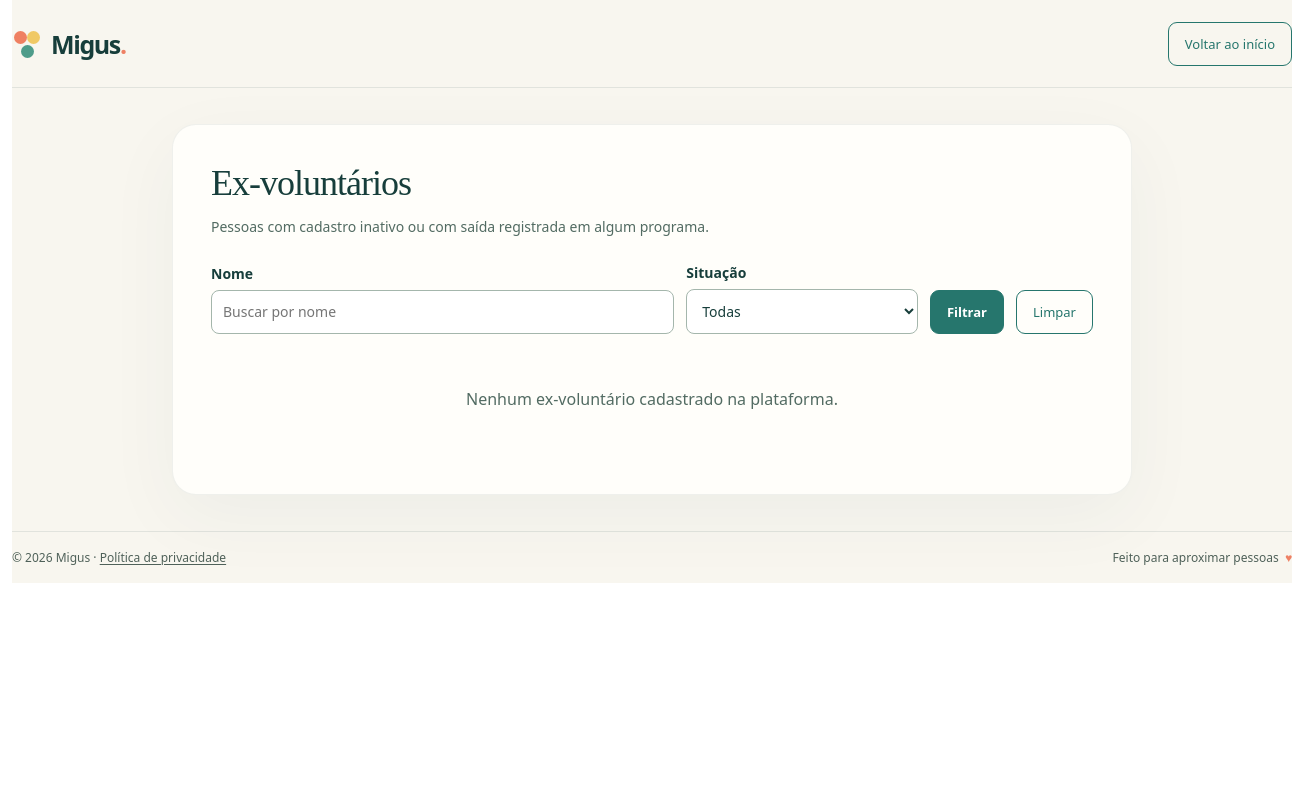
informa quando não há ex-voluntários
Expected: the text "Nenhum ex-voluntário cadastrado na plataforma." is shown, [466,388,838,410]
Type "Zeca" into the field labelled "Nome" at (443, 312), box [211,290,674,334]
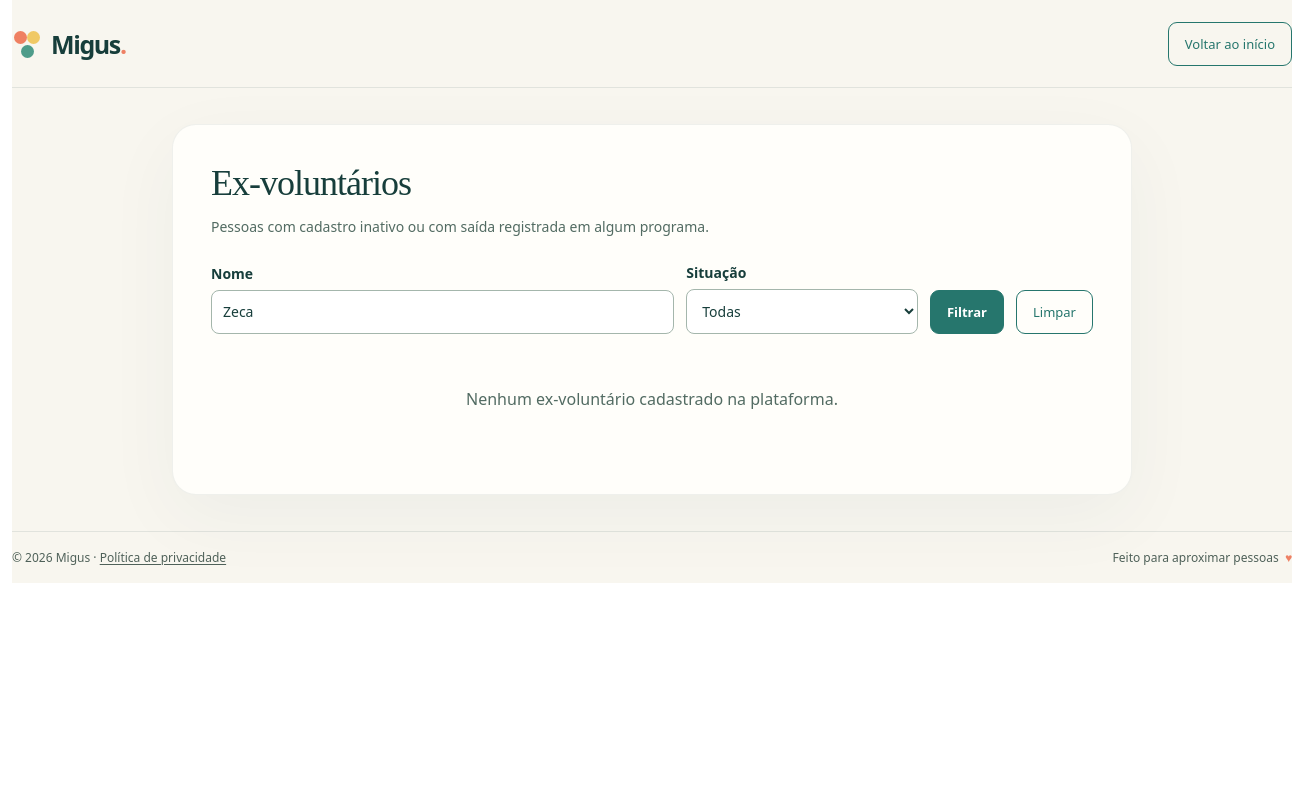
Click the button "Filtrar" at (967, 312), box [930,290,1004,334]
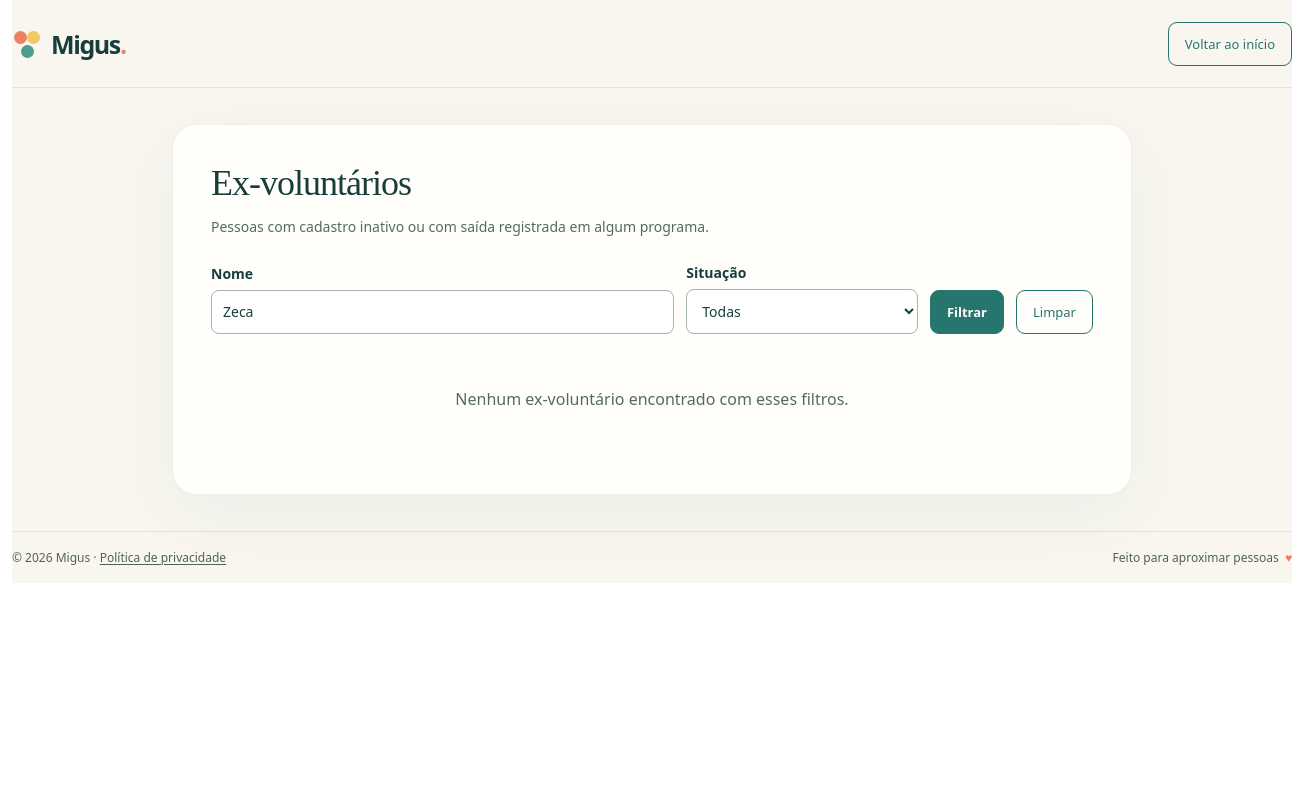
Expected: the text "Nenhum ex-voluntário encontrado com esses filtros." is shown, [455,388,849,410]
